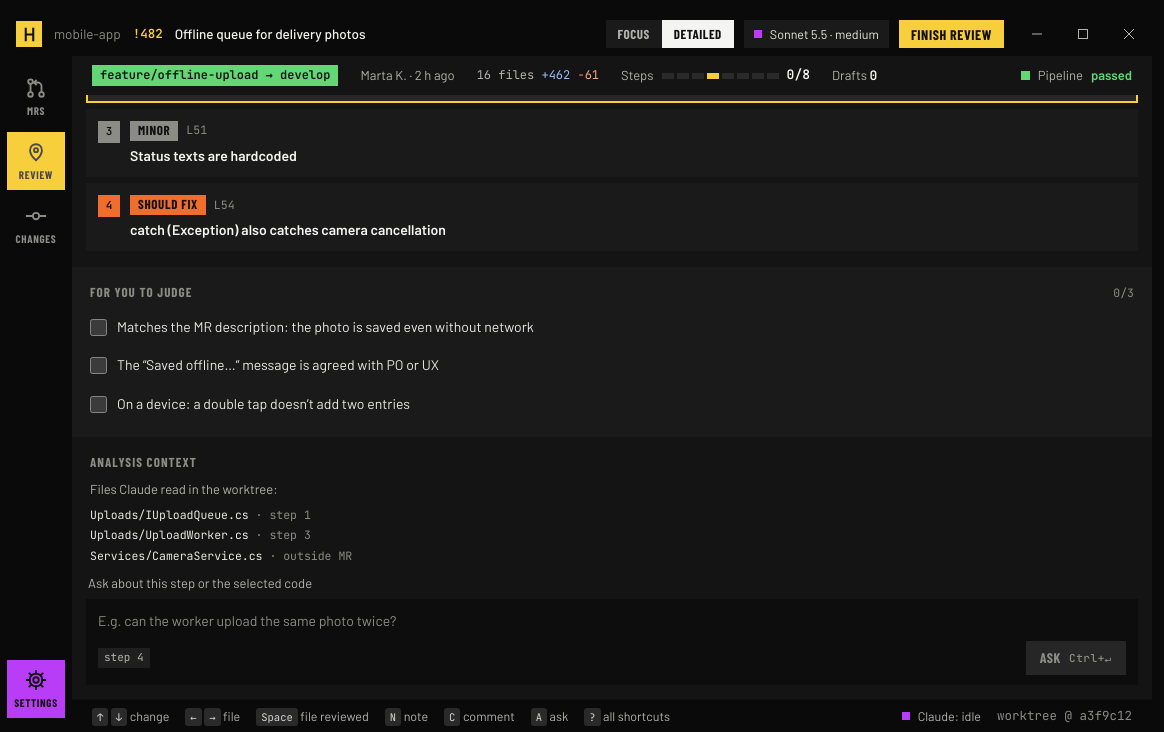
S-04 Ask box (F-08.7) › F-08.7 Ctrl+↵ asks about the step; the answer streams into the card right above the Ask box
(page scrolled)
Click the field labelled "Ask about this step or the selected code" at (612, 621), box [98,609,1126,633]
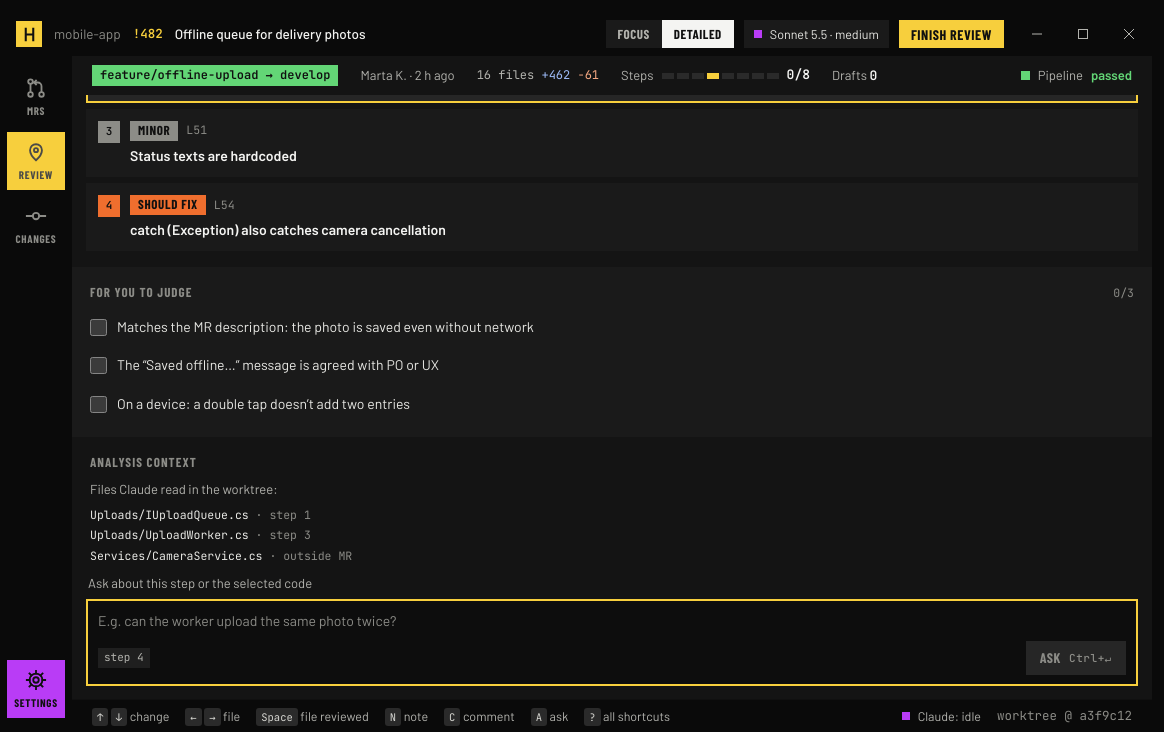
Type keys "Can the worker upload the same photo twice?"
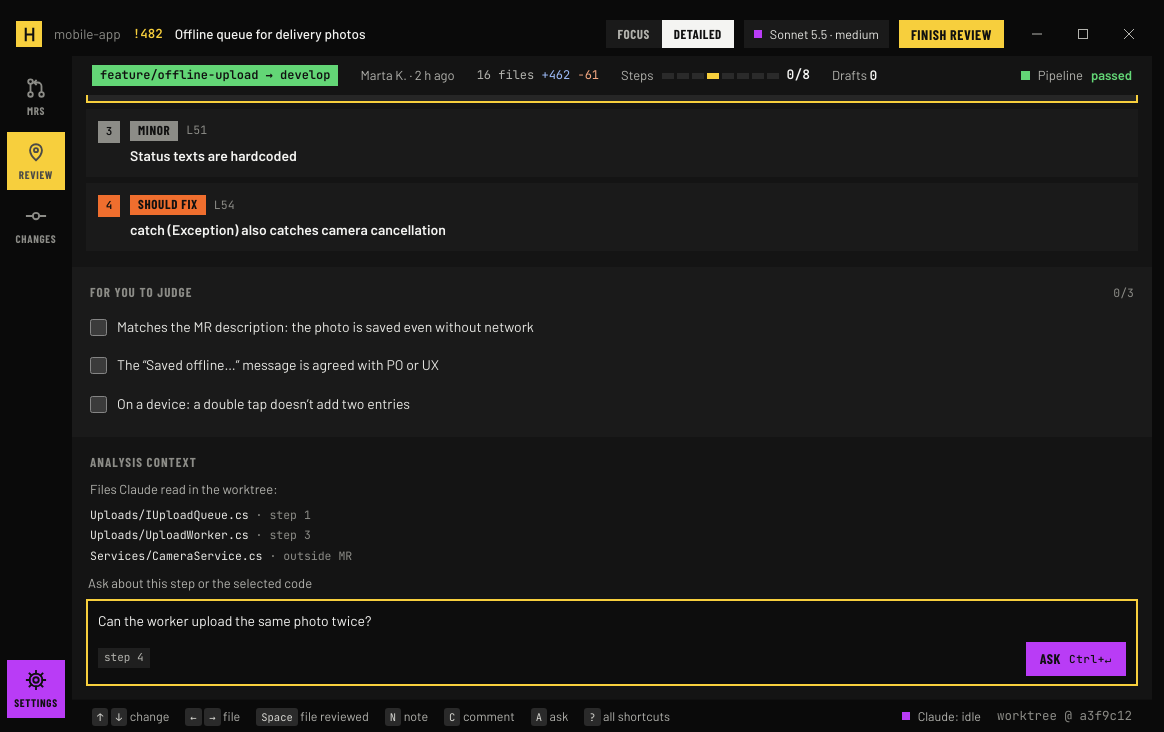
Type keys "{Control>}{Enter}{/Control}"
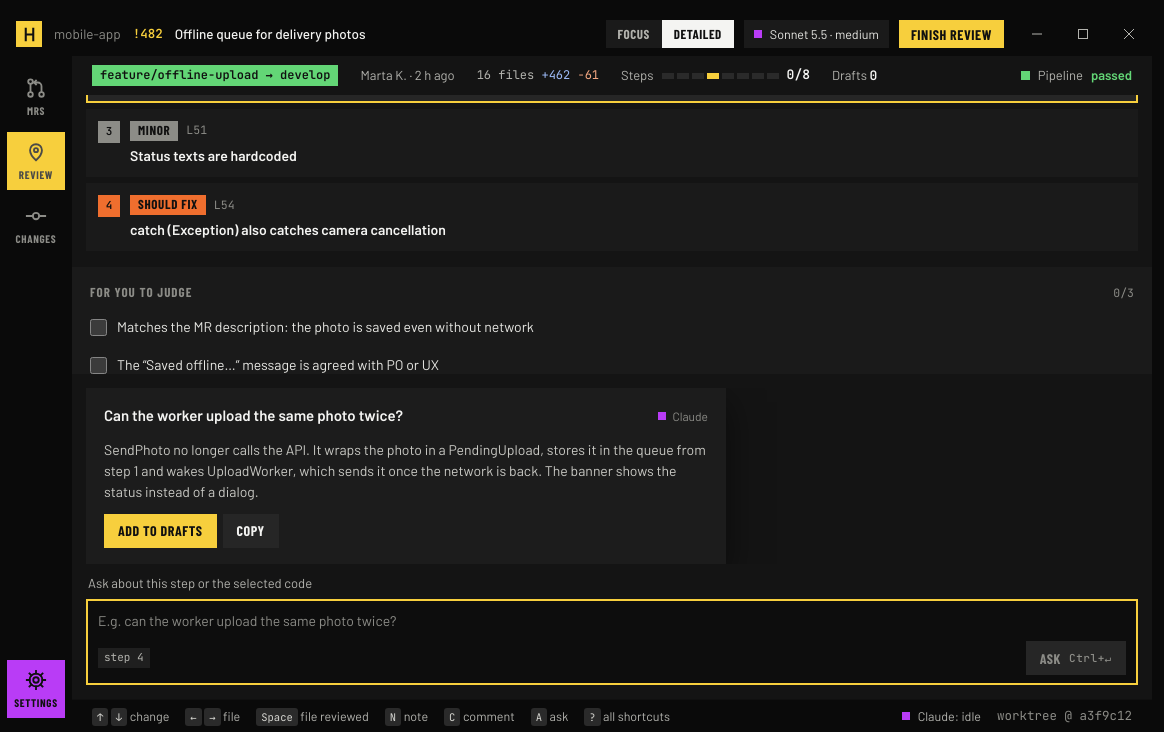
Check: the text "Can the worker upload the same photo twice?" is shown, box [104,405,403,427]
Check: the field labelled "Ask about this step or the selected code" is empty, box [98,609,1126,633]
